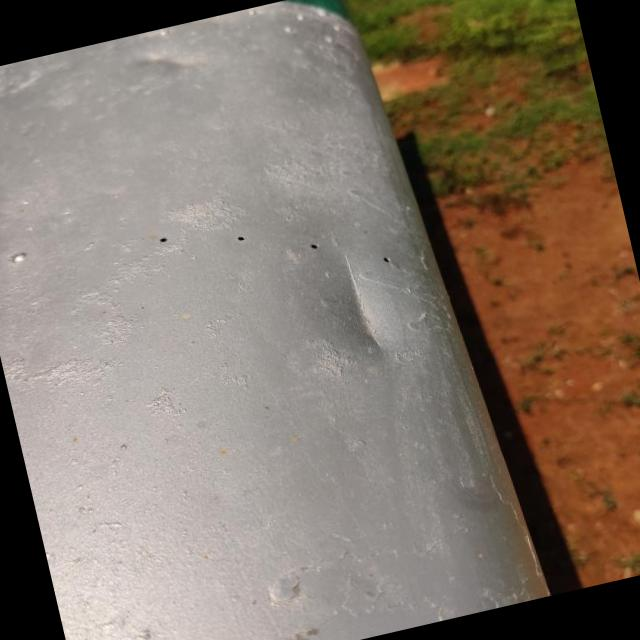Dent: (287, 227, 434, 381), (108, 22, 219, 106)
